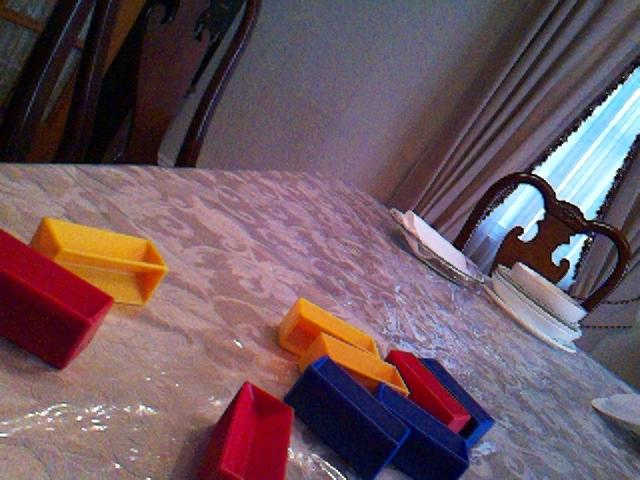blue: (283, 354, 411, 478), (376, 378, 471, 479), (417, 354, 496, 450)
red: (1, 227, 115, 371), (196, 379, 296, 479), (384, 348, 473, 436)
yellow: (29, 215, 169, 308), (297, 332, 411, 398), (277, 296, 380, 358)
